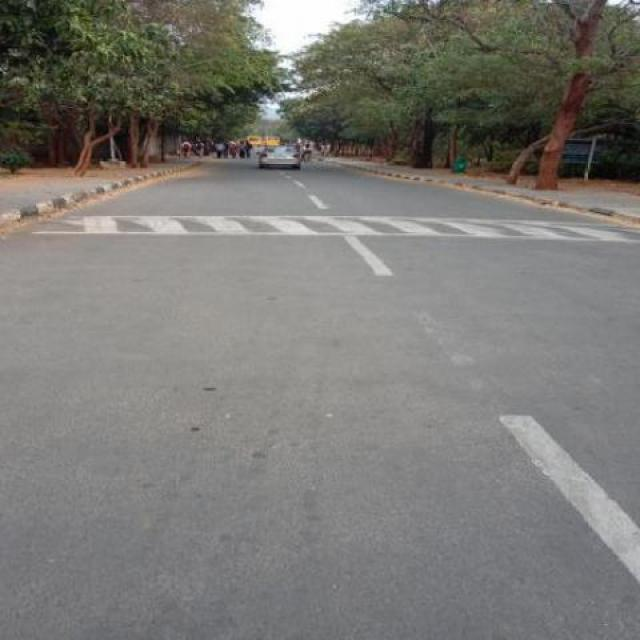Speed Bump: (8, 212, 639, 236)
